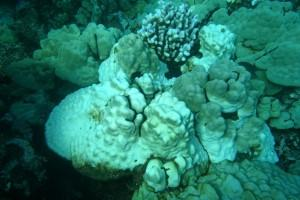bleached_corals: (36, 18, 299, 200)
